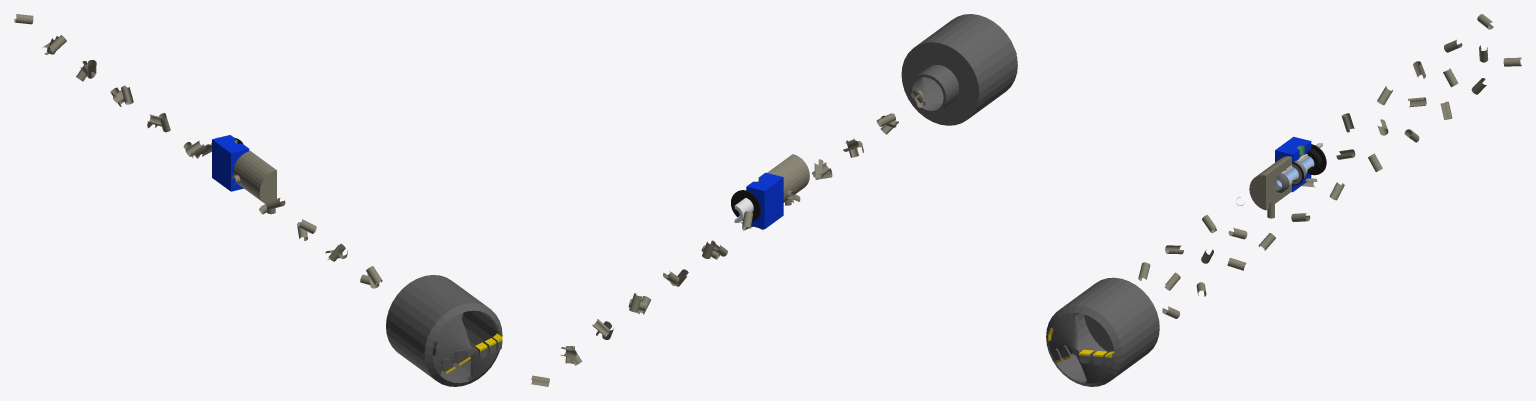
File: Soldier2.glb
3 views of the same model, side by side, from view 1: azimuth 30°, elevation 25°; view 2: azimuth 150°, elevation 25°; view 3: azimuth 330°, elevation 25° (orthographic). The views are drawn at different scales.
Parts seen in each view (by area): view 1: z.044, z.017, z.007, l; view 2: z.044, z.017, l, z.007, z.001; view 3: z.044, z.017, z.007, l, z.001, z.
Part boxes in pixels (x1=…): z.044: x1=386, y1=275, x2=502, y2=386; z.017: x1=14, y1=14, x2=382, y2=288; z.007: x1=233, y1=151, x2=276, y2=204; l: x1=212, y1=135, x2=249, y2=191; z.044: x1=901, y1=14, x2=1017, y2=125; z.017: x1=531, y1=90, x2=925, y2=386; l: x1=746, y1=172, x2=783, y2=229; z.007: x1=767, y1=154, x2=809, y2=202; z.001: x1=731, y1=190, x2=760, y2=221; z.044: x1=1046, y1=277, x2=1159, y2=386; z.017: x1=1138, y1=14, x2=1521, y2=318; z.007: x1=1249, y1=156, x2=1291, y2=210; l: x1=1275, y1=136, x2=1311, y2=192; z.001: x1=1299, y1=144, x2=1326, y2=175; z: x1=1276, y1=143, x2=1322, y2=187.
Size of the model in its own units: 1.03 by 1.03 by 10.07.
